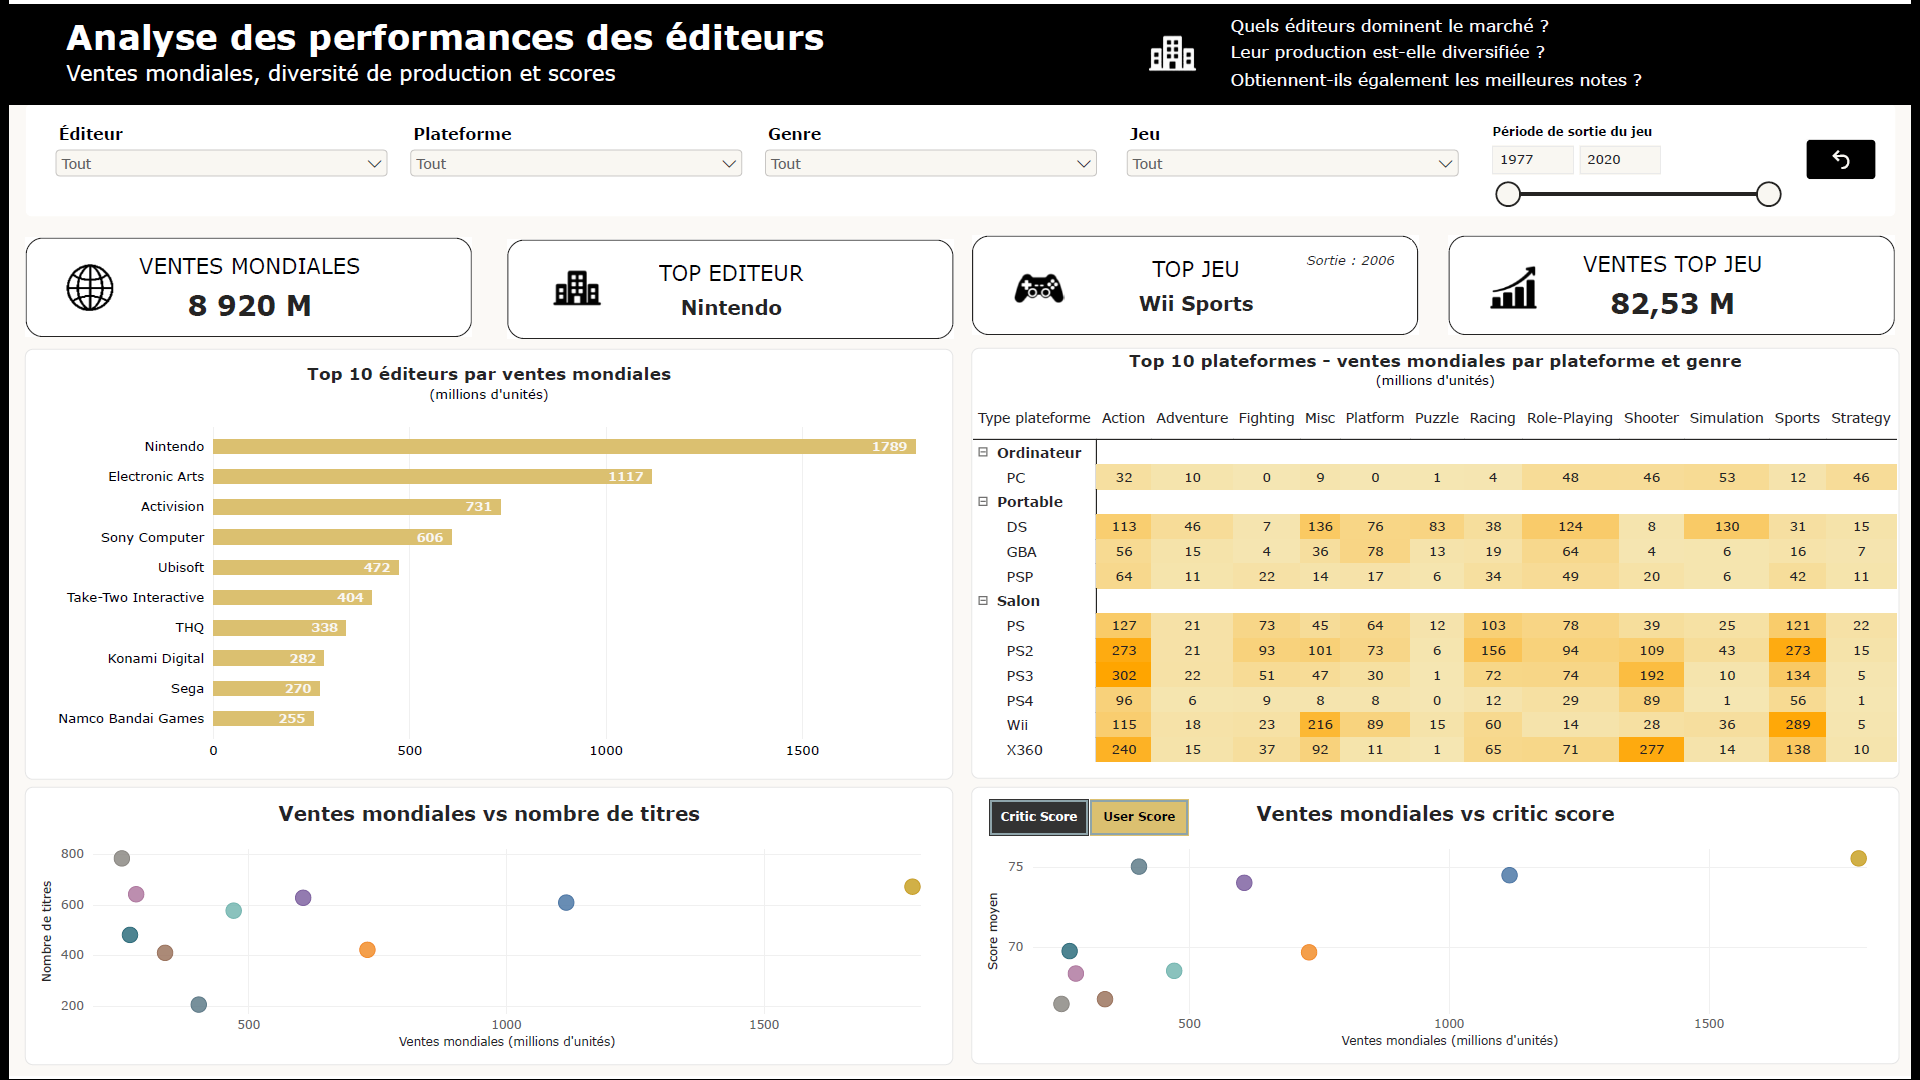

The page's visual inventory and layout, read from the dashboard file:
{"tool":"powerbi","page":{"name":"Analyse_des_performances_des_éditeurs","canvas":[1920,1080],"ordinal":0},"visuals":[{"type":"shape","title":"Bandeau_Filtres","box":[16.7,100,1886.7,113.3],"z":0},{"type":"cardVisual","fields":{"Data":["Choix_Score.Ventes_Mondiales_Carte"]},"box":[16.7,235,450,100],"z":1000},{"type":"slicer","title":"Filtre Editeur","fields":{"Values":["FactVentes_scores_clean.Editeur"]},"box":[41.7,120,345,80],"z":2000},{"type":"slicer","title":"Filtre Plateforme","fields":{"Values":["FactVentes_scores_clean.Plateforme"]},"box":[400,120,345,80],"z":3000},{"type":"slicer","title":"Filtre Genre","fields":{"Values":["FactVentes_scores_clean.Genre"]},"box":[758.3,120,345,80.8],"z":4000},{"type":"slicer","title":"Filtre Jeu","fields":{"Values":["FactVentes_scores_clean.Jeu"]},"box":[1123.3,120,345,80],"z":5000},{"type":"slicer","title":"Filtre Période de sortie du jeu","fields":{"Values":["DimCalendar.Date Hiérarchie.Année"]},"box":[1489.5,119.7,302.5,113],"z":6000},{"type":"cardVisual","title":"Top Jeu","fields":{"Data":["Mesures.Jeu_Le_Plus_Vendu_Affichage"]},"box":[971.7,233.3,450,100],"z":7000},{"type":"clusteredBarChart","title":"Top 10 éditeurs par ventes mondiales","fields":{"Category":["FactVentes_scores_clean.Editeur"],"Y":["Mesures.Ventes_Mondiales"]},"box":[16.1,346.8,937.1,435],"z":8000},{"type":"pivotTable","title":"Top 10 plateformes - ventes mondiales par plateforme et genre","fields":{"Columns":["FactVentes_scores_clean.Genre"],"Rows":["DimPlateformes.Type plateforme","FactVentes_scores_clean.Plateforme"],"Values":["Mesures.Ventes_Mondiales_Heatmap"]},"box":[971,346,937,435],"z":9000},{"type":"cardVisual","title":"Top Jeu","fields":{"Data":["Mesures.Ventes_Jeu_Le_Plus_Vendu"]},"box":[1453.3,233.3,450,100],"z":10000},{"type":"cardVisual","title":"Top Jeu","fields":{"Data":["Mesures.Top_Editeur_Affichage"]},"box":[503.3,237,450,100],"z":11000},{"type":"scatterChart","title":"Ventes mondiales vs nombre de titres","fields":{"Series":["FactVentes_scores_clean.Editeur"],"X":["Sum(FactVentes_scores_clean.Ventes mondiales)"],"Y":["Mesures.Nombre_De_Jeux"]},"box":[16.1,788.7,937.1,280.6],"z":12000},{"type":"scatterChart","fields":{"Series":["FactVentes_scores_clean.Editeur"],"X":["Sum(FactVentes_scores_clean.Ventes mondiales)"],"Y":["Mesures.Score_Moyen_Selectionne"]},"box":[971,788.7,937,280],"z":13000},{"type":"slicer","title":"Bouton_Switch_Score","fields":{"Values":["Choix_Score.Type Score"]},"box":[969.4,800,240.3,40.3],"z":14000},{"type":"shape","title":"Fond_Bandeau_Titre","box":[0,0,1920,100],"z":15000},{"type":"textbox","title":"Analyse des performances des éditeurs","box":[58.3,10,895,80],"z":16000},{"type":"textbox","title":"Quels éditeurs dominent le marché ? ","box":[1233.3,10,340,25],"z":17000},{"type":"textbox","title":"Leur production est-elle diversifiée ?","box":[1233.3,36.7,340,25],"z":18000},{"type":"textbox","title":"Obtiennent-ils également les meilleures notes ?","box":[1233.3,65,420,25],"z":19000},{"type":"actionButton","box":[30.6,253.2,101.6,64.5],"z":20000},{"type":"actionButton","box":[522.6,253.2,101.6,64.5],"z":21000},{"type":"actionButton","box":[988.7,253.2,101.6,64.5],"z":22000},{"type":"actionButton","box":[1467.7,253.2,101.6,64.5],"z":23000},{"type":"actionButton","box":[1813.6,136.3,69.8,39.9],"z":24000},{"type":"actionButton","box":[1116.5,1.4,117,95],"z":25000},{"type":"cardVisual","title":"Top Jeu","fields":{"Data":["Mesures.Libelle_Annee_Sortie_Top_Jeu"]},"box":[1293,238,122,29],"z":26000}]}

Visuals, with their boxes in screenshot pixels (x1, y1, x2, y2), scaled from the page's 1920x1080 canvas onto the 1920x1080 screenshot:
"Bandeau_Filtres" shape: [17, 100, 1903, 213]
cardVisual - Choix_Score.Ventes_Mondiales_Carte: [17, 235, 467, 335]
"Filtre Editeur" slicer: [42, 120, 387, 200]
"Filtre Plateforme" slicer: [400, 120, 745, 200]
"Filtre Genre" slicer: [758, 120, 1103, 201]
"Filtre Jeu" slicer: [1123, 120, 1468, 200]
"Filtre Période de sortie du jeu" slicer: [1490, 120, 1792, 233]
"Top Jeu" cardVisual: [972, 233, 1422, 333]
"Top 10 éditeurs par ventes mondiales" clusteredBarChart: [16, 347, 953, 782]
"Top 10 plateformes - ventes mondiales par plateforme et genre" pivotTable: [971, 346, 1908, 781]
"Top Jeu" cardVisual: [1453, 233, 1903, 333]
"Top Jeu" cardVisual: [503, 237, 953, 337]
"Ventes mondiales vs nombre de titres" scatterChart: [16, 789, 953, 1069]
scatterChart - FactVentes_scores_clean.Editeur x Sum(FactVentes_scores_clean.Ventes mondiales): [971, 789, 1908, 1069]
"Bouton_Switch_Score" slicer: [969, 800, 1210, 840]
"Fond_Bandeau_Titre" shape: [0, 0, 1919, 100]
"Analyse des performances des éditeurs" textbox: [58, 10, 953, 90]
"Quels éditeurs dominent le marché ? " textbox: [1233, 10, 1573, 35]
"Leur production est-elle diversifiée ?" textbox: [1233, 37, 1573, 62]
"Obtiennent-ils également les meilleures notes ?" textbox: [1233, 65, 1653, 90]
actionButton: [31, 253, 132, 318]
actionButton: [523, 253, 624, 318]
actionButton: [989, 253, 1090, 318]
actionButton: [1468, 253, 1569, 318]
actionButton: [1814, 136, 1883, 176]
actionButton: [1116, 1, 1234, 96]
"Top Jeu" cardVisual: [1293, 238, 1415, 267]
